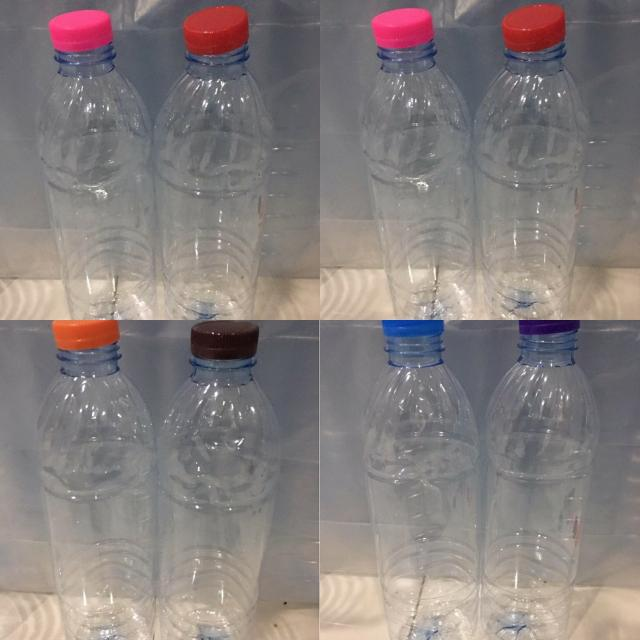plastik: (158, 320, 281, 640), (38, 320, 155, 640), (481, 320, 598, 640), (364, 320, 479, 640), (155, 6, 272, 319), (38, 10, 155, 319), (474, 4, 588, 319), (361, 9, 475, 319)
